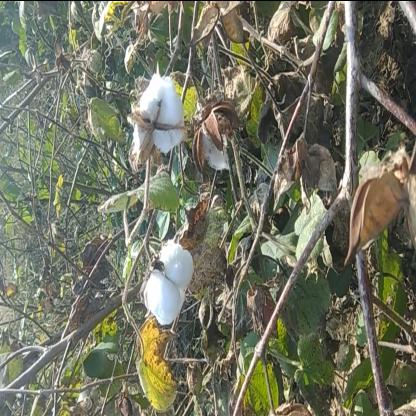cotton_ready: (124, 63, 192, 174), (138, 222, 202, 332)
